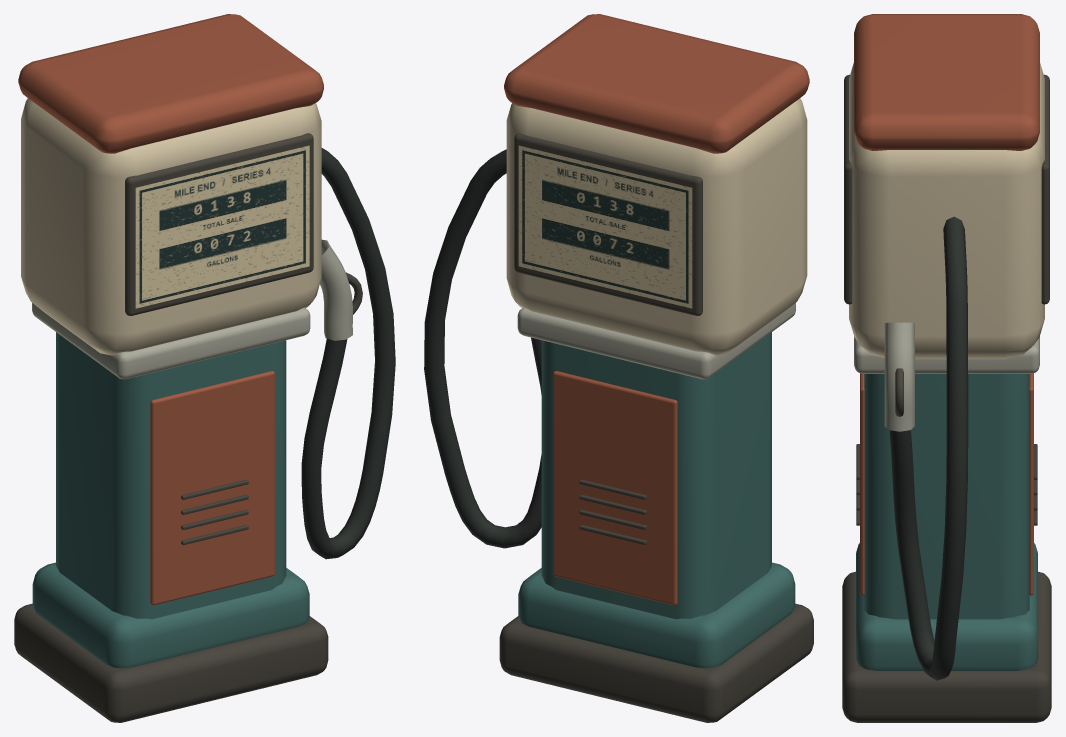
The model's file is dispenser.glb.
The picture shows the model from 3 angles, left to right: view 1: azimuth 30°, elevation 25°; view 2: azimuth 150°, elevation 25°; view 3: azimuth 270°, elevation 25°; orthographic projection.
Parts seen in each view (by area): view 1: MechanicalDispenser; view 2: MechanicalDispenser; view 3: MechanicalDispenser.
Boxes of the visible parts, x1,y1,x2,y2 form: MechanicalDispenser: (14,14,395,722); MechanicalDispenser: (424,14,813,722); MechanicalDispenser: (842,14,1051,722).
Bounding box in the file's own units: 1.19 × 1.99 × 0.62.
7 materials, 1 textured.
